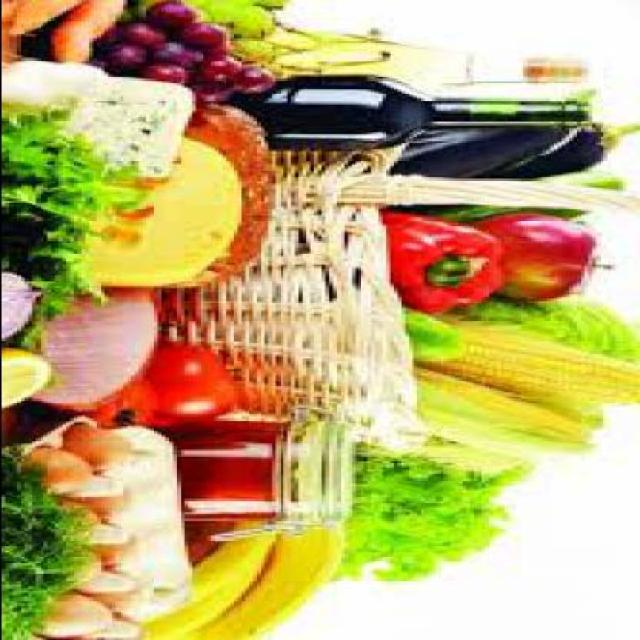BIODEGRADABLE: (5, 100, 152, 343), (343, 433, 537, 578), (80, 134, 248, 286), (160, 101, 278, 285), (431, 316, 638, 404), (422, 358, 610, 454), (396, 88, 602, 175), (195, 524, 347, 638), (31, 288, 168, 412), (4, 444, 91, 638), (145, 518, 278, 638), (472, 211, 617, 298), (392, 209, 506, 308), (480, 294, 638, 357), (129, 342, 248, 424), (179, 420, 278, 512), (503, 123, 639, 180), (433, 178, 624, 218), (50, 0, 133, 62), (34, 591, 114, 634), (68, 420, 141, 465), (427, 439, 525, 472), (201, 0, 294, 34), (5, 346, 57, 406), (95, 376, 156, 424), (4, 266, 45, 337), (31, 446, 98, 488), (415, 310, 468, 358), (10, 0, 87, 32), (50, 499, 99, 532), (191, 520, 232, 557), (103, 42, 155, 70), (180, 21, 228, 45), (232, 65, 278, 90), (144, 2, 202, 21), (232, 38, 282, 57), (144, 62, 193, 80), (121, 22, 168, 40), (202, 53, 240, 75), (194, 78, 232, 100), (152, 41, 198, 59), (202, 40, 240, 55)
GLASS: (236, 72, 595, 150), (175, 418, 362, 538), (282, 34, 598, 92)
